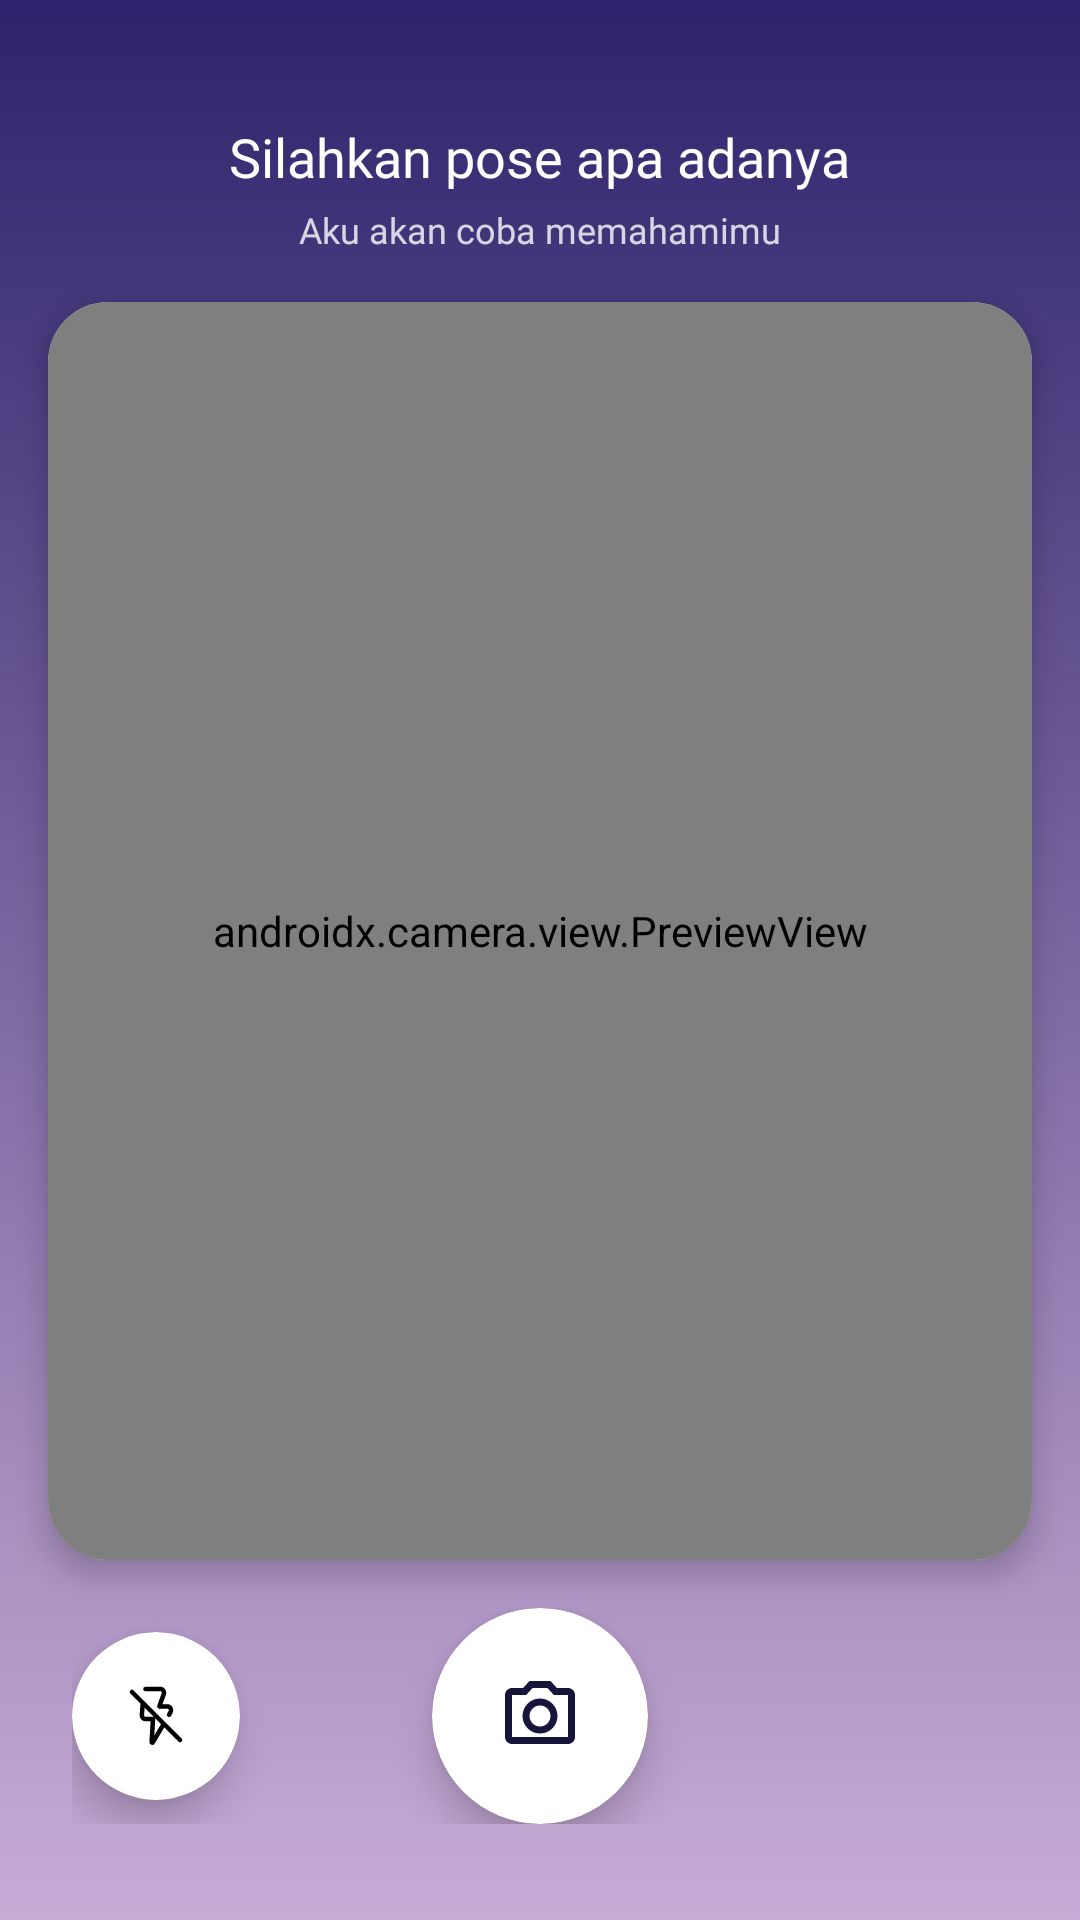

Locate icon controls on the screen. Image size 1080w x 1920h, boxes as [x1,y1,x2,y2].
flash off: [129,1686,183,1745]
Tombol untuk mengambil foto: [505,1681,575,1744]
